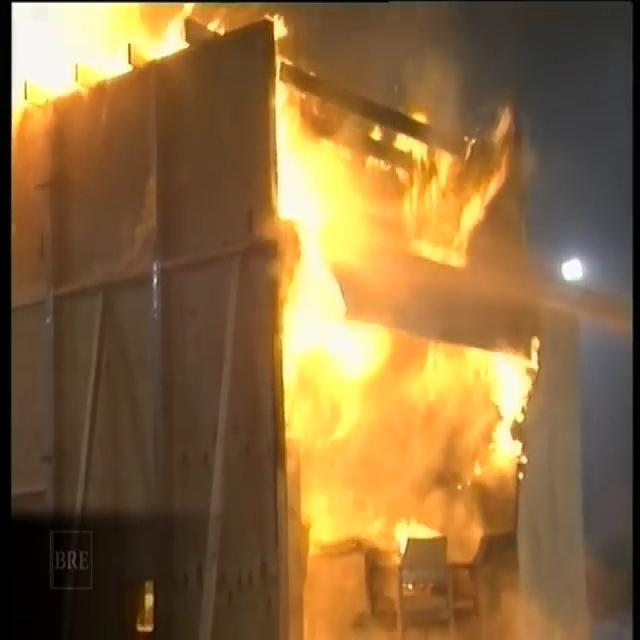Fire: (304, 153, 525, 532), (20, 8, 142, 85)
